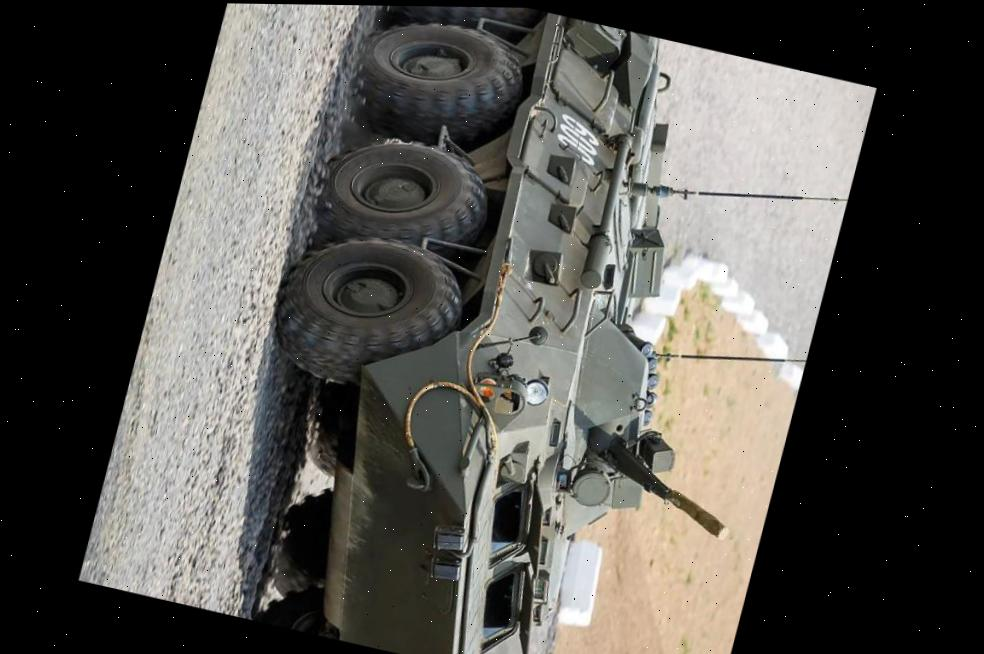tank: (142, 3, 847, 654)
